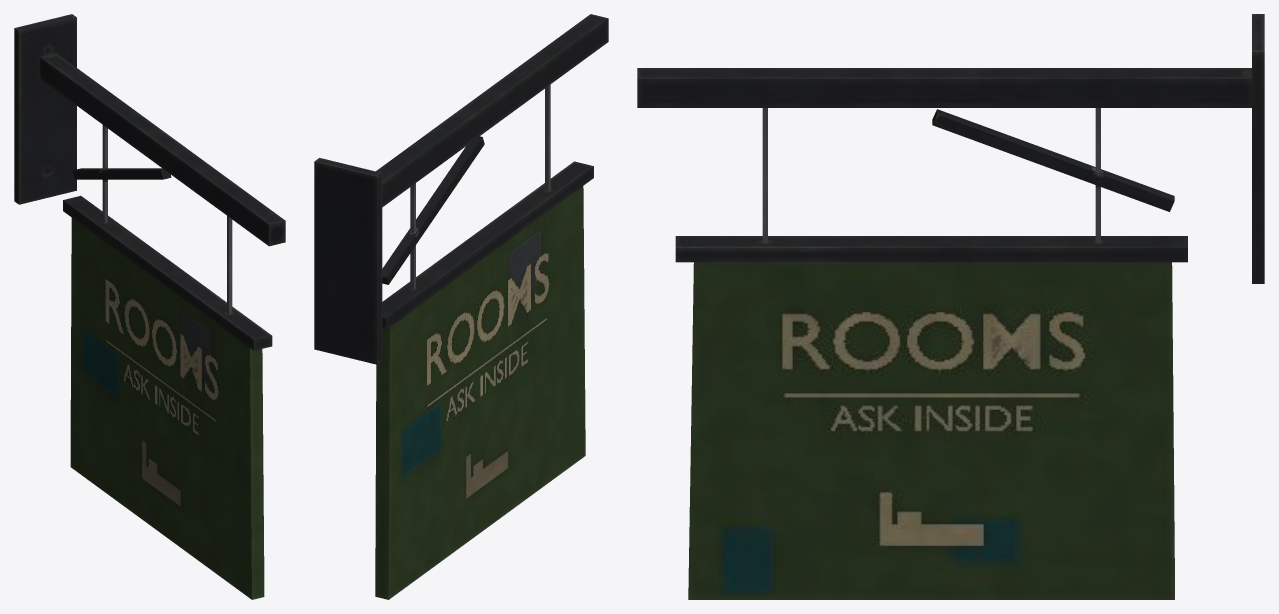
The model's file is shop_sign_rooms.glb.
3 renders of one model, left to right at view 1: azimuth 30°, elevation 25°; view 2: azimuth 150°, elevation 25°; view 3: azimuth 270°, elevation 25°, orthographic. The views are drawn at different scales.
Parts seen in each view (by area): view 1: shop_sign_rooms; view 2: shop_sign_rooms; view 3: shop_sign_rooms.
Boxes of the visible parts, box(x1,y1,x2,y2) form: shop_sign_rooms: box(14, 14, 285, 599); shop_sign_rooms: box(314, 14, 608, 599); shop_sign_rooms: box(637, 14, 1264, 599).
Size of the model in its own units: 0.14 by 0.97 by 0.98.
Materials: 1 (1 with a texture image).
